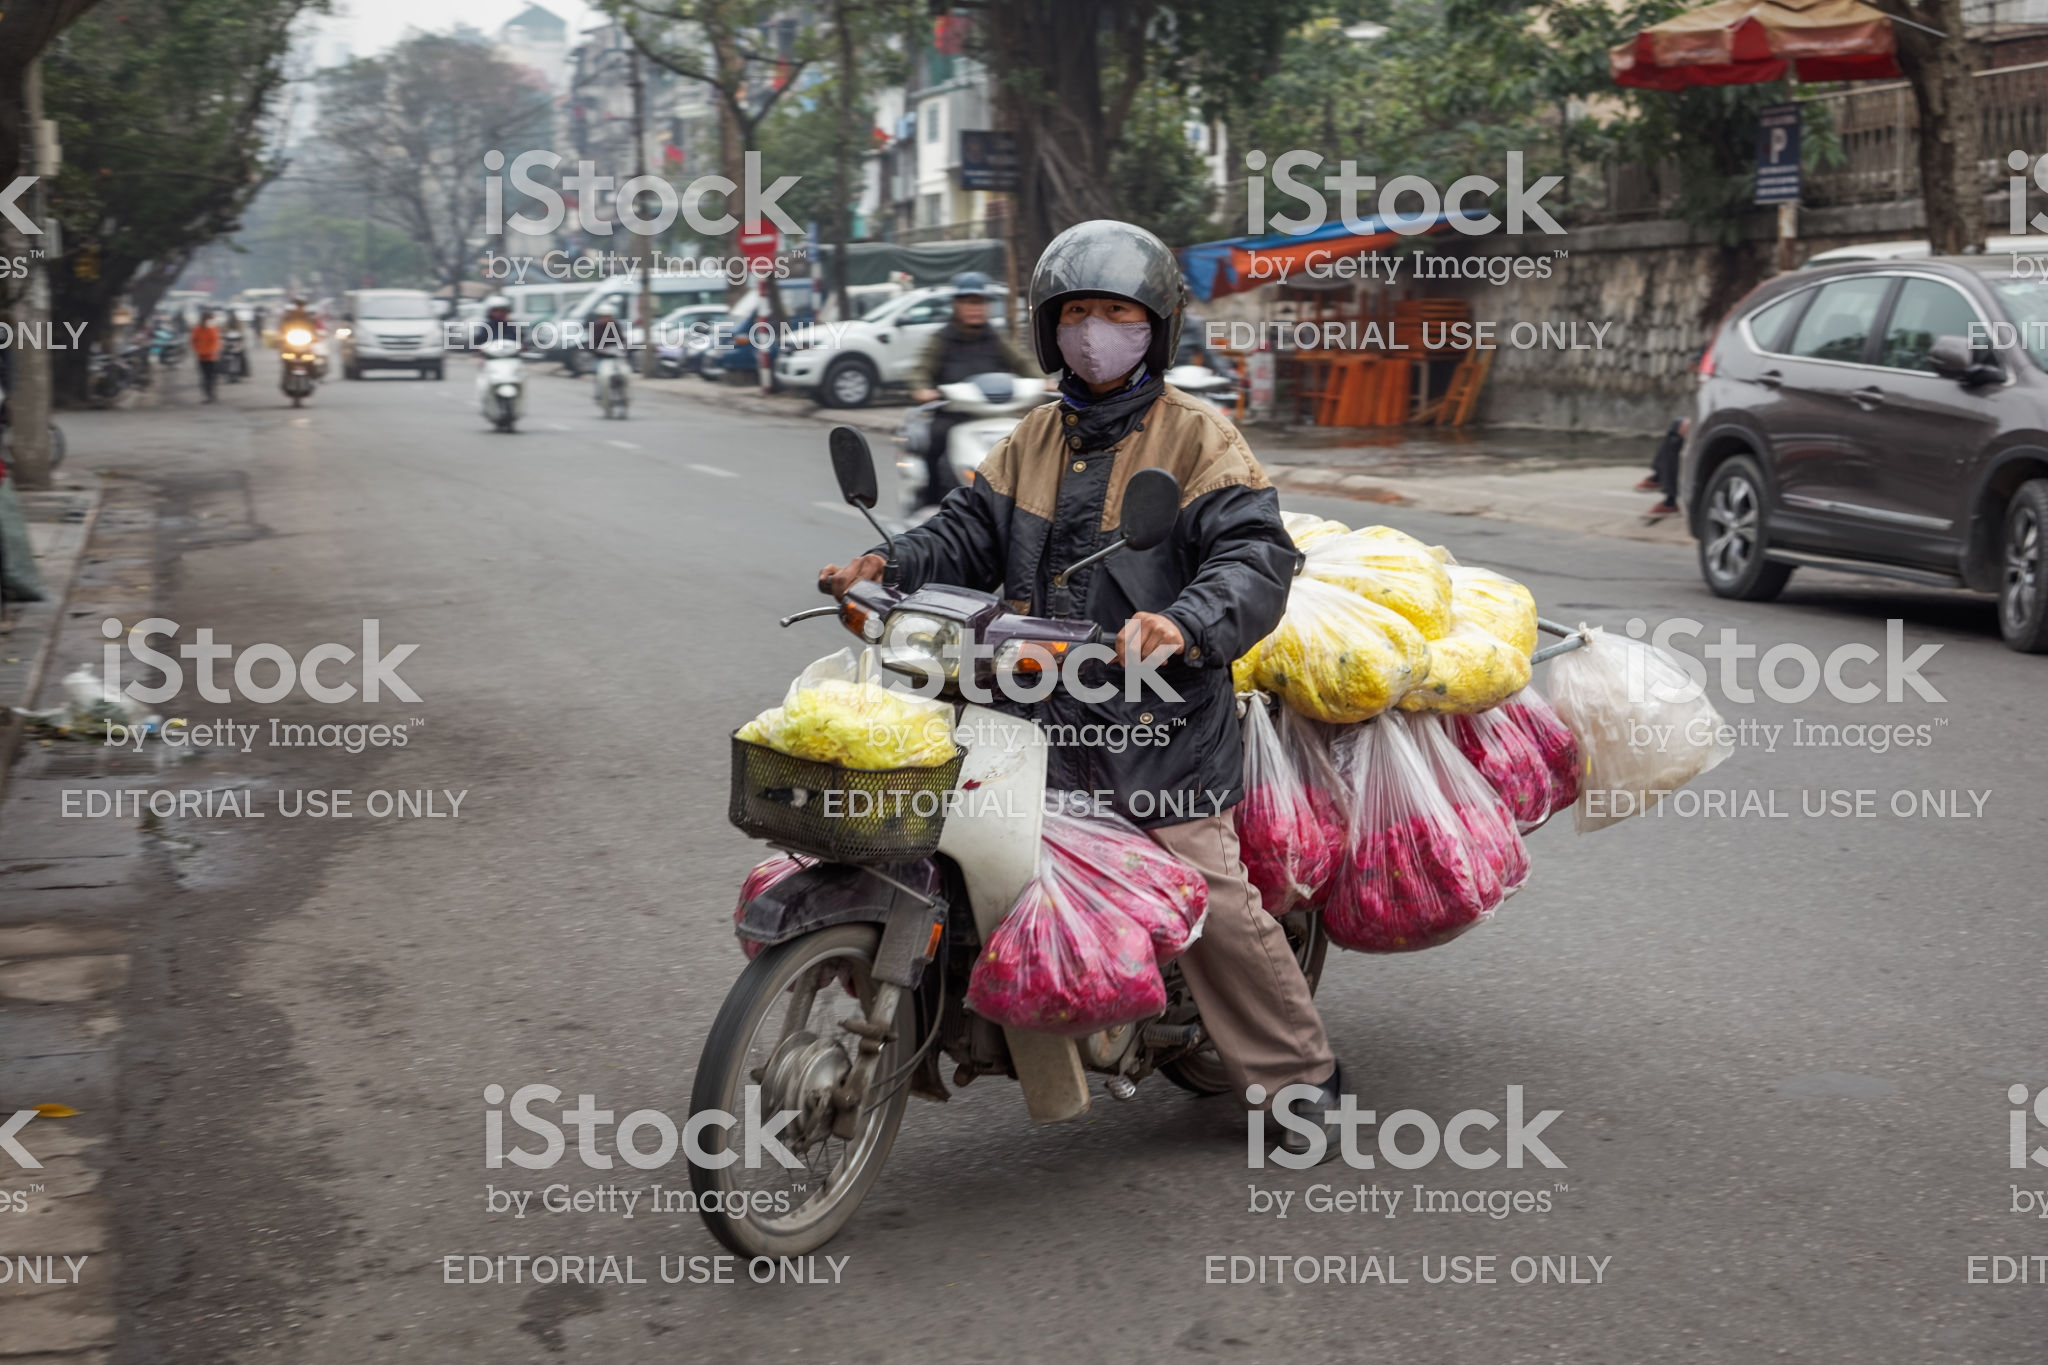helmet: (1023, 222, 1201, 379)
